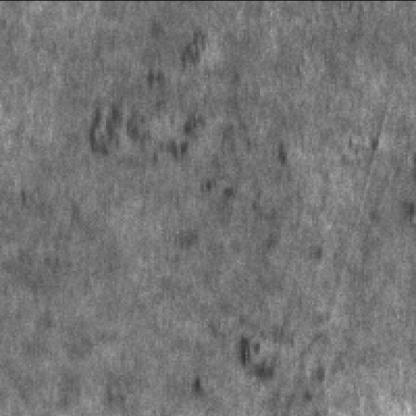rolled-in_scale: (85, 25, 239, 206), (185, 322, 335, 416)
